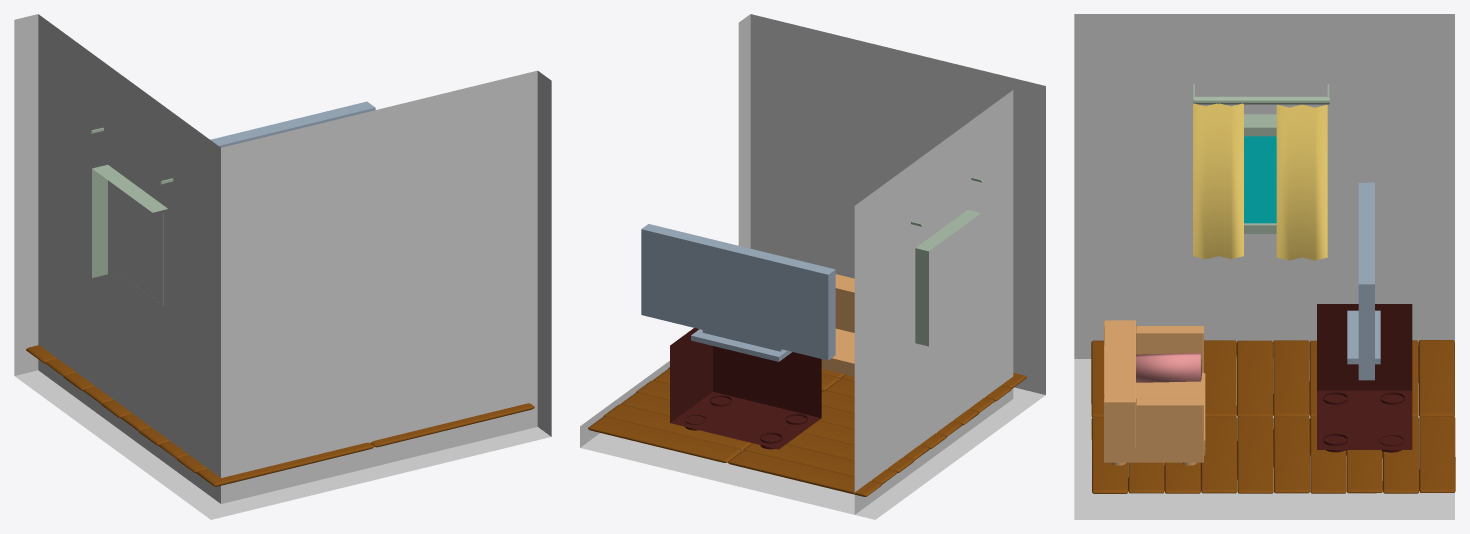
The model's file is room1.glb.
The picture shows the model from 3 angles, left to right: view 1: azimuth 30°, elevation 25°; view 2: azimuth 150°, elevation 25°; view 3: azimuth 270°, elevation 25°; orthographic projection. The views are drawn at different scales.
Parts seen in each view (by area): view 1: Куб, Плоскость, window, Cube.003; view 2: Куб, Cube.003, Плоскость, Тумбочка, Куб.003, window, Plane.002; view 3: Куб, Плоскость, Куб.003, Тумбочка, Plane, Plane.001, window, Cube.003, Подушка правая, Cube.002, Plane.002.
Boxes of the visible parts, bbox=[...] form: Куб: bbox=[14, 14, 551, 519]; Плоскость: bbox=[26, 345, 534, 486]; window: bbox=[92, 164, 167, 305]; Cube.003: bbox=[210, 101, 375, 147]; Куб: bbox=[580, 14, 1045, 519]; Cube.003: bbox=[641, 224, 835, 360]; Плоскость: bbox=[588, 367, 1026, 496]; Тумбочка: bbox=[670, 328, 821, 449]; Куб.003: bbox=[821, 274, 854, 376]; window: bbox=[915, 209, 980, 346]; Plane.002: bbox=[691, 329, 791, 361]; Куб: bbox=[1074, 14, 1454, 519]; Плоскость: bbox=[1091, 340, 1455, 493]; Куб.003: bbox=[1104, 320, 1205, 465]; Тумбочка: bbox=[1317, 304, 1412, 457]; Plane: bbox=[1276, 104, 1327, 260]; Plane.001: bbox=[1193, 103, 1243, 259]; window: bbox=[1244, 114, 1276, 233]; Cube.003: bbox=[1358, 182, 1374, 380]; Подушка правая: bbox=[1136, 353, 1201, 382]; Cube.002: bbox=[1193, 84, 1329, 104]; Plane.002: bbox=[1347, 310, 1380, 364].
Bounding box in the file's own units: 5.65 × 5.65 × 5.66.
